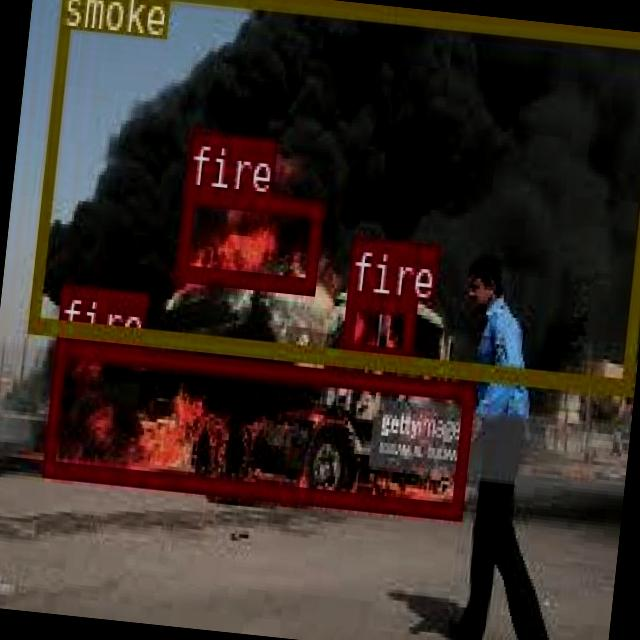fire: (41, 340, 473, 517), (173, 186, 320, 290), (340, 289, 415, 363)
smoke: (27, 0, 640, 389)
